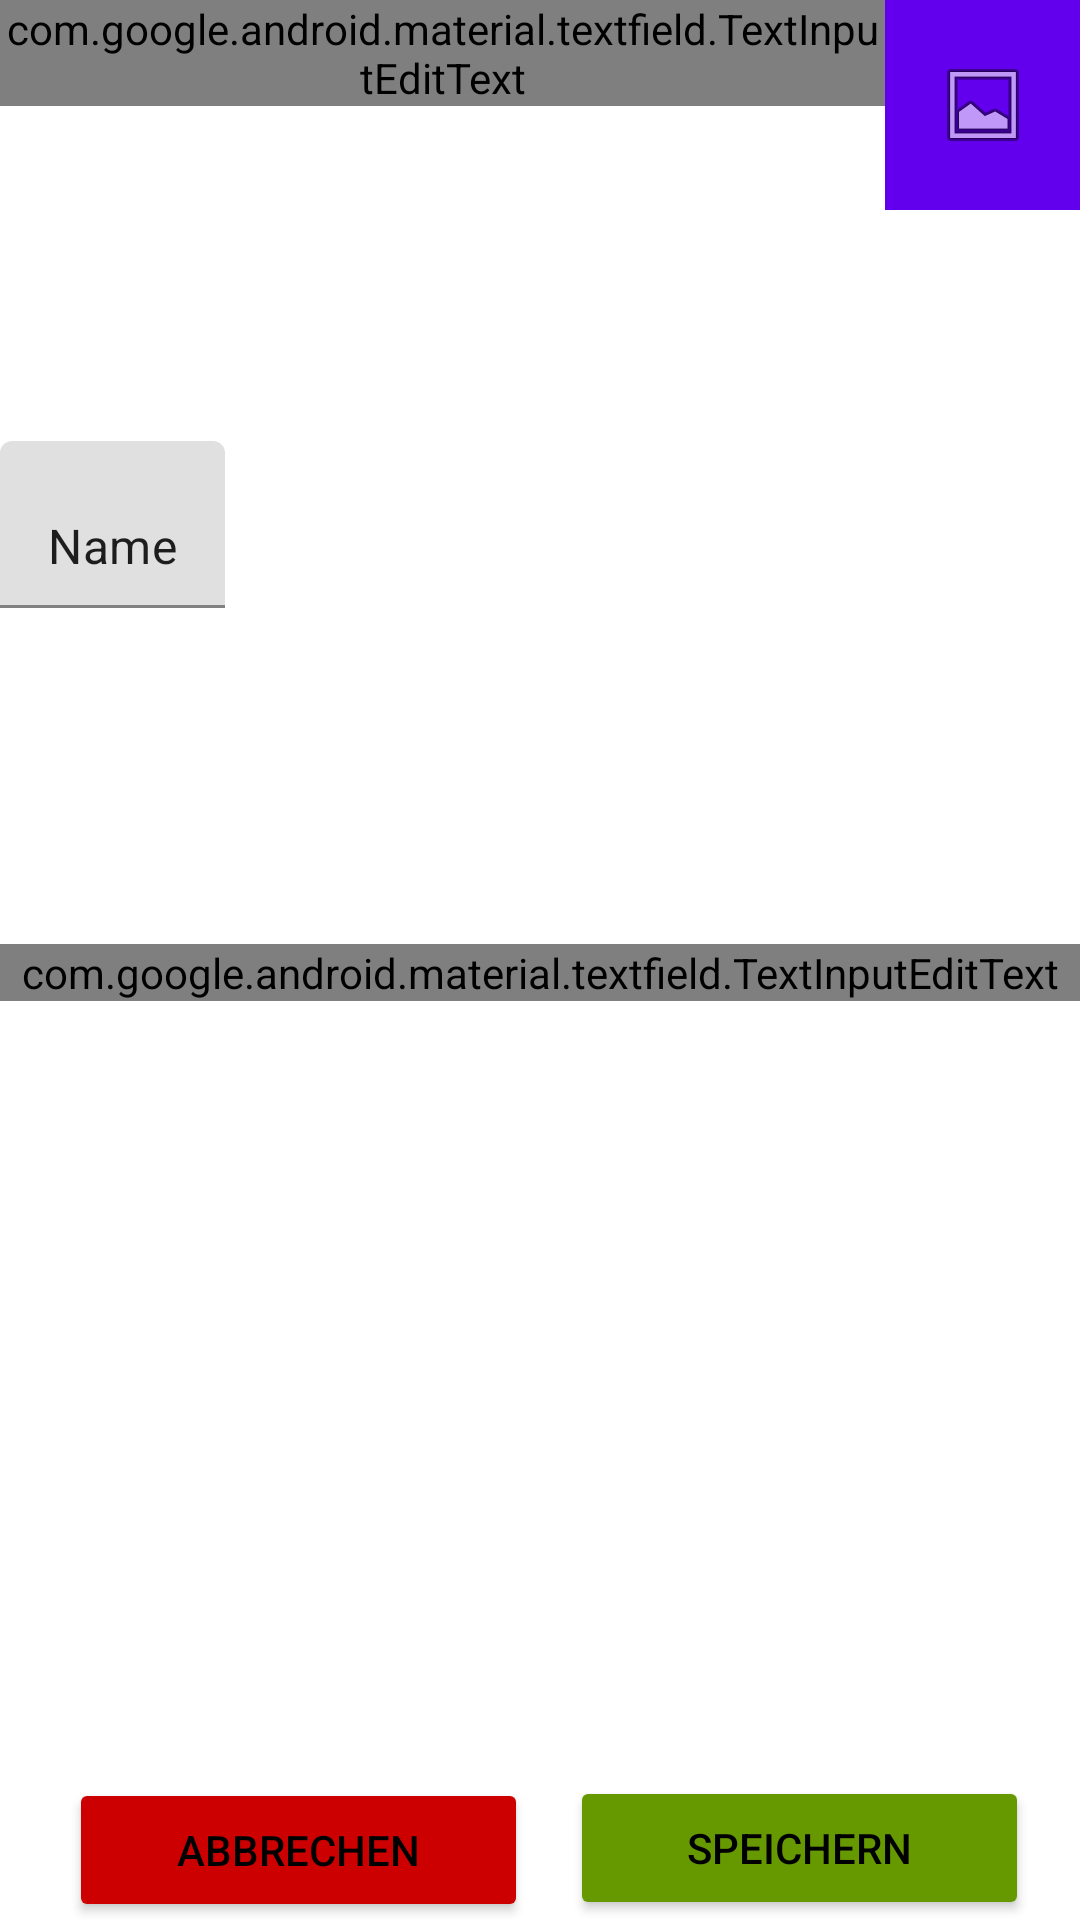

Where icons sit on this 1080px×1920px app screen, as [x1, y1, x2, y2]:
gallery: [885, 0, 1080, 210]
